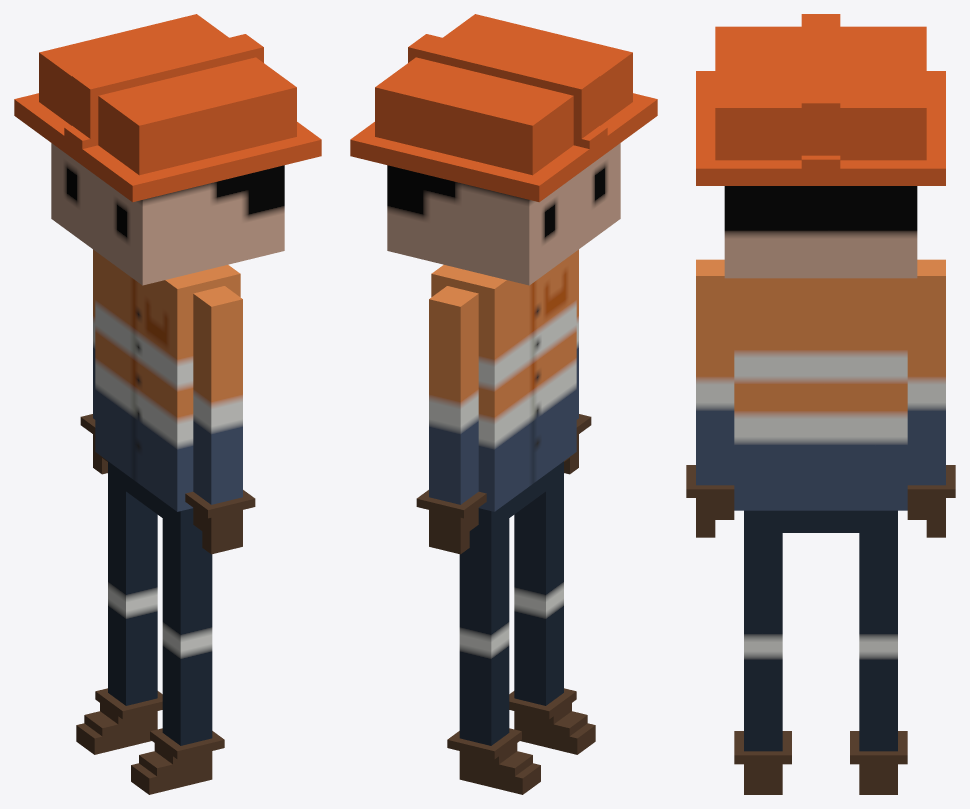
Rendered from Player.fbx.
3 renders of one model, left to right at view 1: azimuth 30°, elevation 25°; view 2: azimuth 150°, elevation 25°; view 3: azimuth 270°, elevation 25°, orthographic. The views are drawn at different scales.
Parts seen in each view (by area): view 1: Caja_7, Caja_5, Caja_3, Caja_6, Caja, Caja_2, Caja_4, Caja_1, _1; view 2: Caja_7, Caja_5, Caja, Caja_8, Caja_3, Caja_2, Caja_1, Caja_4, object 10; view 3: Caja_7, Caja_5, Caja_6, Caja_8, Caja, Caja_3, Caja_2, Caja_1, Caja_4, object 10, _1.
Boxes of the visible parts, <box> form: Caja_7: <box>14,14,321,285</box>; Caja_5: <box>95,251,240,486</box>; Caja_3: <box>162,518,212,745</box>; Caja_6: <box>193,286,242,504</box>; Caja: <box>108,478,157,705</box>; Caja_2: <box>95,427,196,531</box>; Caja_4: <box>131,728,224,794</box>; Caja_1: <box>76,688,162,754</box>; _1: <box>185,490,255,554</box>; Caja_7: <box>350,14,657,285</box>; Caja_5: <box>431,251,576,486</box>; Caja: <box>459,518,509,745</box>; Caja_8: <box>429,286,478,504</box>; Caja_3: <box>514,478,563,705</box>; Caja_2: <box>475,427,576,531</box>; Caja_1: <box>447,728,540,794</box>; Caja_4: <box>509,688,595,754</box>; object 10: <box>416,490,486,554</box>; Caja_7: <box>696,14,945,278</box>; Caja_5: <box>734,278,907,484</box>; Caja_6: <box>696,259,734,485</box>; Caja_8: <box>907,259,945,485</box>; Caja: <box>859,533,897,751</box>; Caja_3: <box>744,533,782,751</box>; Caja_2: <box>734,484,907,532</box>; Caja_1: <box>850,731,907,794</box>; Caja_4: <box>734,731,791,794</box>; object 10: <box>907,465,955,537</box>; _1: <box>686,465,734,537</box>.
Bounding box in the file's own units: 24 × 84 × 28.
Materials: 1 (1 with a texture image).
